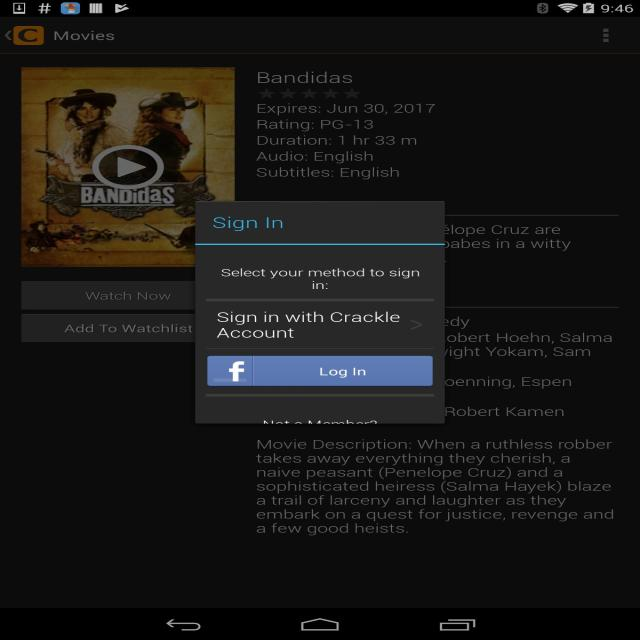button: (208, 355, 432, 387), (21, 282, 213, 310), (24, 314, 212, 342), (3, 23, 46, 49)
heading: (252, 71, 357, 86), (211, 214, 287, 234)
image: (25, 69, 237, 265), (213, 356, 252, 385)
label: (313, 365, 370, 379)
text: (252, 304, 621, 424), (250, 436, 620, 541), (250, 98, 442, 185), (253, 218, 592, 259), (213, 309, 405, 342), (220, 265, 424, 293), (54, 30, 115, 44)
